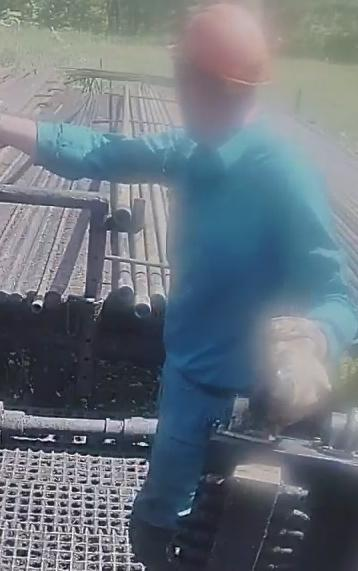gloves: (256, 309, 340, 427)
helmet: (165, 2, 276, 89)
vest: (161, 124, 300, 397)
